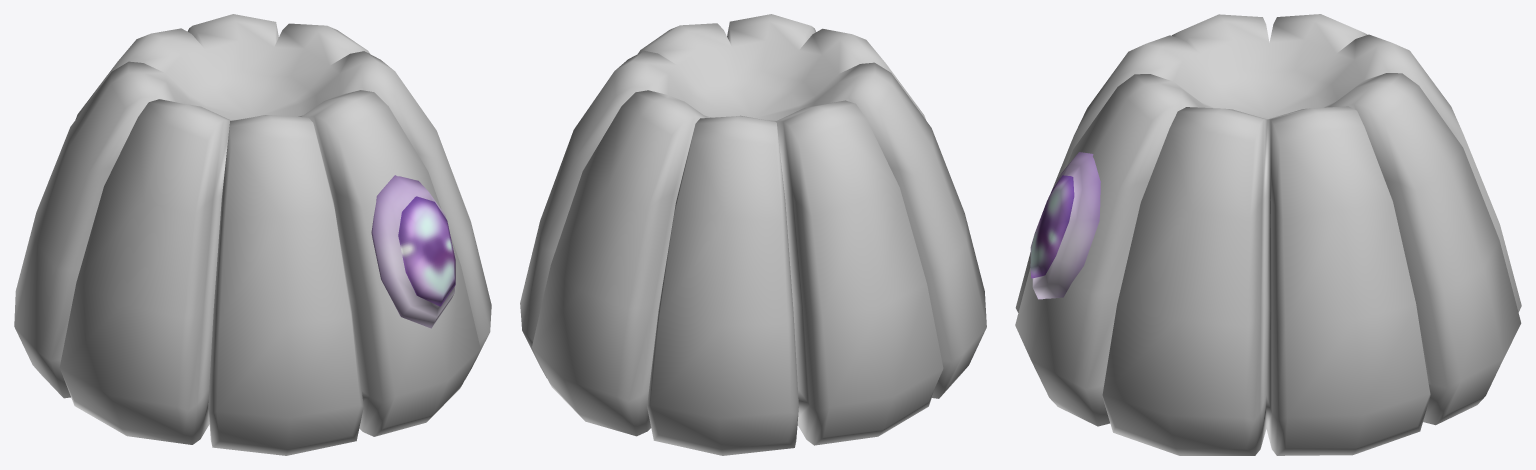
Rendered from jelly.fbx.
3 renders of one model, left to right at view 1: azimuth 30°, elevation 25°; view 2: azimuth 150°, elevation 25°; view 3: azimuth 270°, elevation 25°, orthographic. The views are drawn at different scales.
Parts seen in each view (by area): view 1: jelly; view 2: jelly; view 3: jelly.
Part boxes in pixels (<box>): jelly: <box>14,14,491,455</box>; jelly: <box>520,14,986,455</box>; jelly: <box>1015,14,1521,455</box>.
Size of the model in its own units: 80.5 by 56.51 by 84.48.
